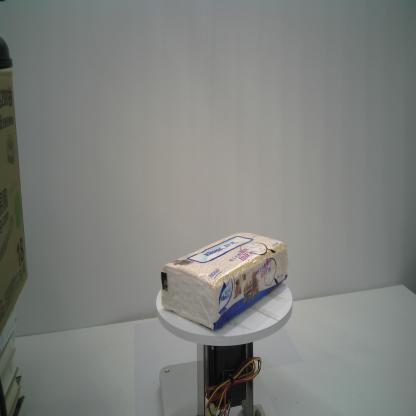Tissue: (156, 228, 292, 331)
